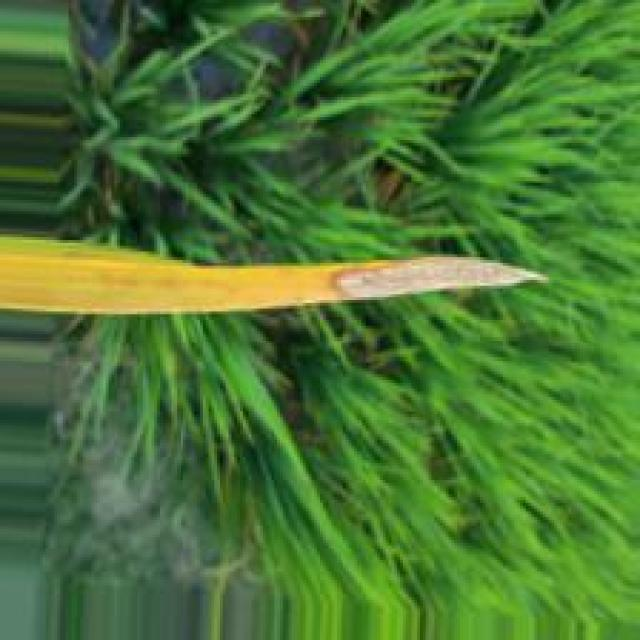Leaf_Scald: (326, 258, 537, 304)
